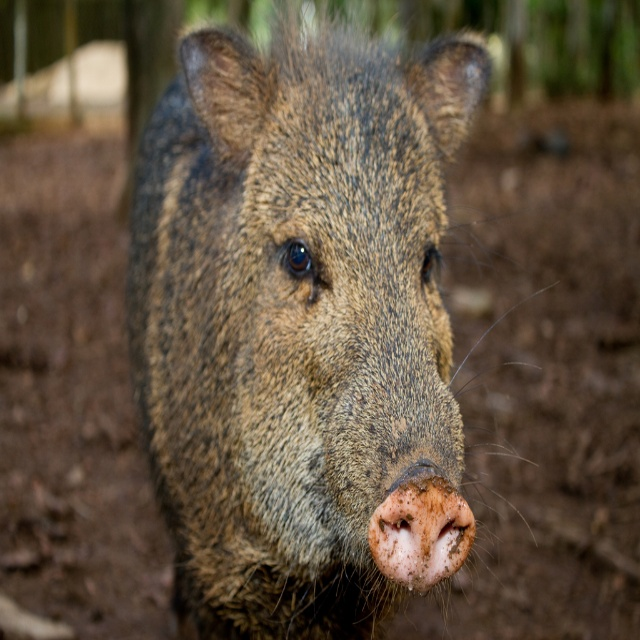Pig: (132, 0, 496, 639)
